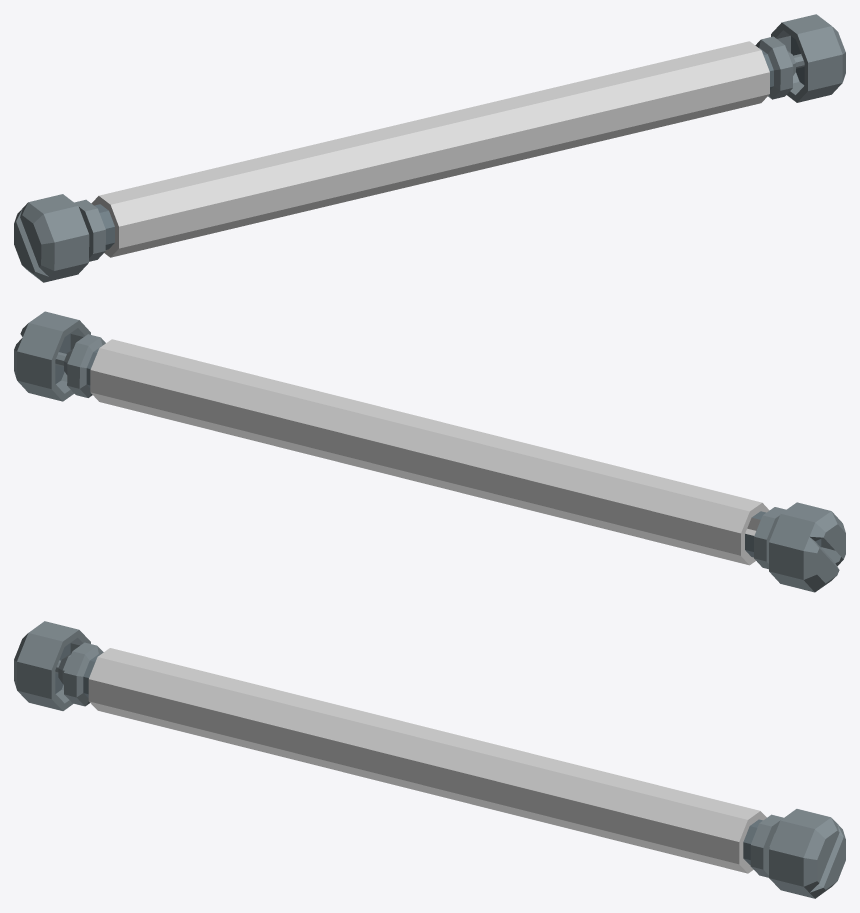
Rendered from long_light.glb.
3 renders of one model, top to bottom at view 1: azimuth 30°, elevation 25°; view 2: azimuth 150°, elevation 25°; view 3: azimuth 330°, elevation 25°, orthographic.
Visible parts, largest first — view 1: long_light; view 2: long_light; view 3: long_light.
Boxes of the visible parts, x1,y1,x2,y2 form: long_light: (14, 14, 845, 282); long_light: (14, 311, 845, 592); long_light: (14, 621, 845, 898).
Size of the model in its own units: 1.48 by 0.1253 by 0.1419.
